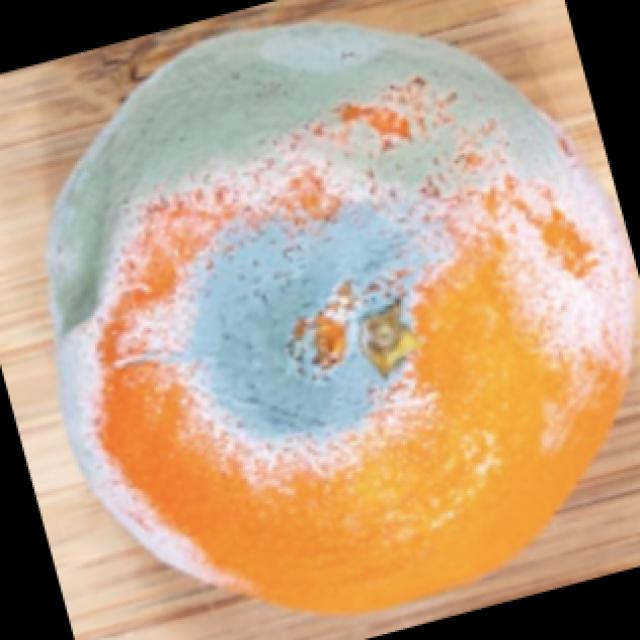sangat_busuk: (49, 21, 640, 610)
